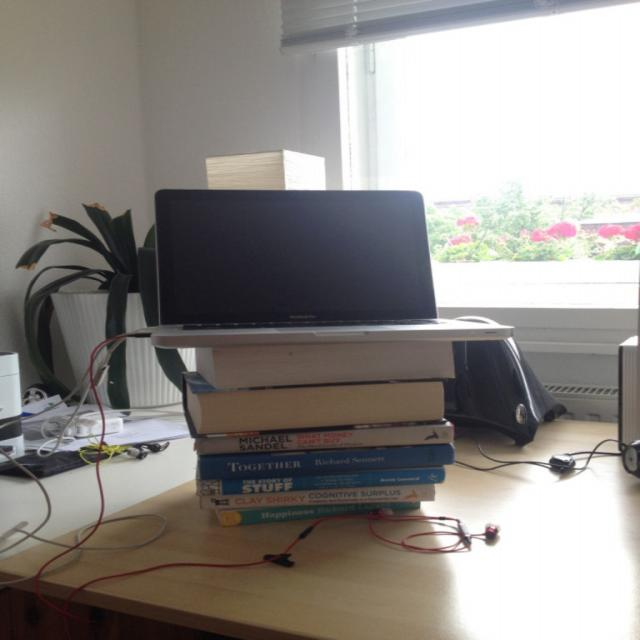desk: (0, 419, 639, 639)
laptop: (150, 188, 513, 336)
